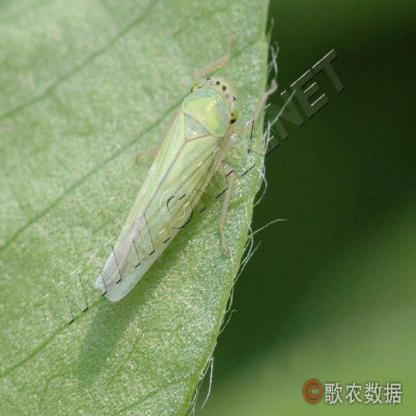Green-Leafhopper: (89, 52, 258, 306)
